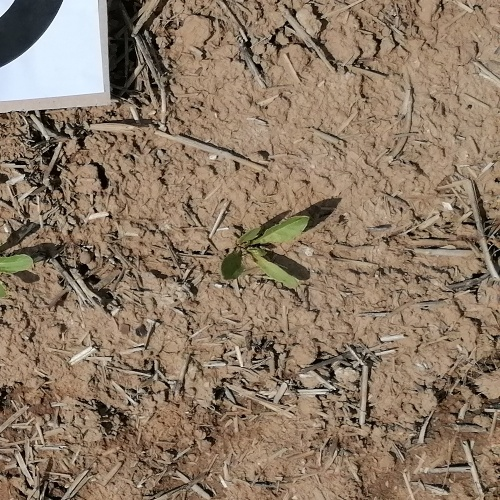beet: (222, 215, 308, 291), (0, 255, 35, 292)
